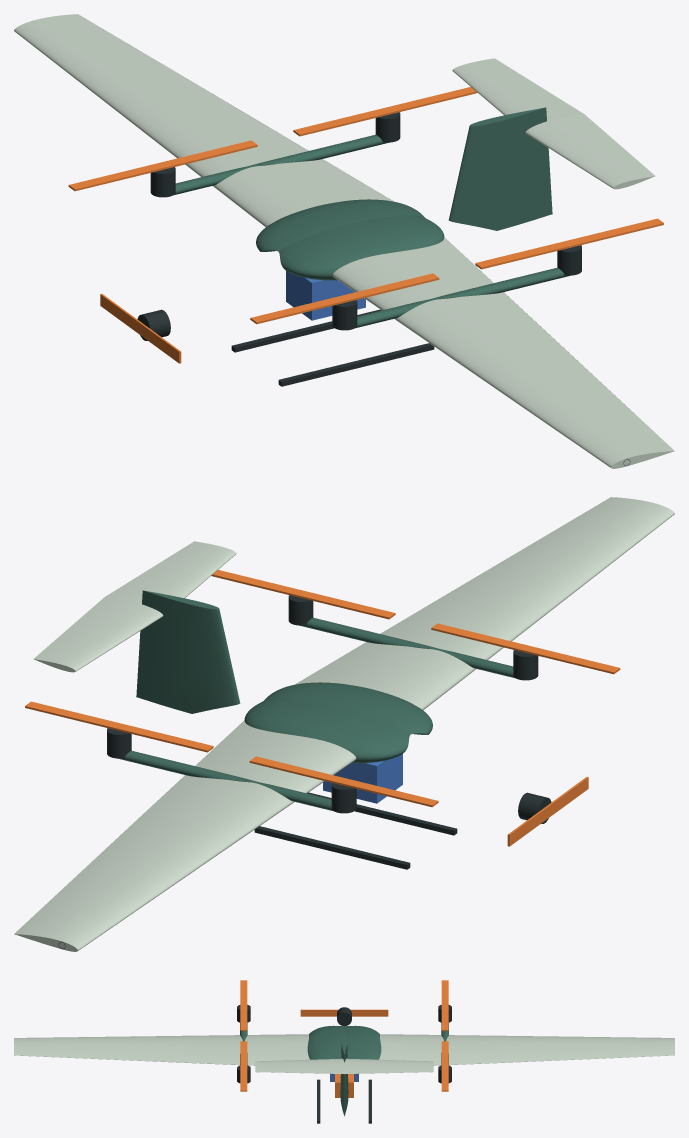
The model's file is control-04-internal.glb.
3 renders of one model, top to bottom at view 1: azimuth 30°, elevation 25°; view 2: azimuth 150°, elevation 25°; view 3: azimuth 270°, elevation 25°, orthographic. The views are drawn at different scales.
Visible parts, largest first — view 1: wing-1, wing1, fin, root_fairing-1, tail-1, root_fairing1, tail1, boom_fairing-1, boom_fairing1, payload, prop_-1_200.0, prop_1_200.0 (+8 smaller); view 2: wing1, wing-1, fin, root_fairing1, tail1, root_fairing-1, tail-1, boom_fairing1, boom_fairing-1, payload, prop_1_200.0, prop_-1_200.0 (+8 smaller); view 3: wing-1, wing1, tail-1, tail1, root_fairing-1, root_fairing1, cruise_prop, fin, prop_-1_200.0, prop_-1_700.0, prop_1_200.0, prop_1_700.0 (+2 smaller).
Boxes of the visible parts, x1=… form: wing-1: x1=332, y1=237, x2=674, y2=468; wing1: x1=14, y1=14, x2=393, y2=227; fin: x1=448, y1=107, x2=552, y2=230; root_fairing-1: x1=278, y1=215, x2=444, y2=280; tail-1: x1=525, y1=114, x2=655, y2=189; root_fairing1: x1=256, y1=199, x2=424, y2=251; tail1: x1=452, y1=58, x2=583, y2=121; boom_fairing-1: x1=355, y1=267, x2=569, y2=328; boom_fairing1: x1=174, y1=134, x2=388, y2=194; payload: x1=286, y1=271, x2=365, y2=320; prop_-1_200.0: x1=250, y1=273, x2=439, y2=324; prop_1_200.0: x1=68, y1=140, x2=257, y2=191; wing1: x1=14, y1=720, x2=356, y2=951; wing-1: x1=295, y1=497, x2=674, y2=710; fin: x1=136, y1=590, x2=240, y2=713; root_fairing1: x1=244, y1=698, x2=410, y2=763; tail1: x1=33, y1=597, x2=163, y2=672; root_fairing-1: x1=264, y1=682, x2=432, y2=734; tail-1: x1=105, y1=541, x2=236, y2=604; boom_fairing1: x1=119, y1=750, x2=333, y2=811; boom_fairing-1: x1=300, y1=617, x2=514, y2=677; payload: x1=323, y1=754, x2=402, y2=803; prop_1_200.0: x1=249, y1=756, x2=438, y2=807; prop_-1_200.0: x1=431, y1=623, x2=620, y2=674; wing-1: x1=14, y1=1034, x2=309, y2=1065; wing1: x1=379, y1=1034, x2=674, y2=1065; tail-1: x1=255, y1=1058, x2=344, y2=1074; tail1: x1=344, y1=1058, x2=433, y2=1073; root_fairing-1: x1=307, y1=1025, x2=344, y2=1059; root_fairing1: x1=344, y1=1025, x2=381, y2=1059; cruise_prop: x1=300, y1=1009, x2=388, y2=1016; fin: x1=340, y1=1034, x2=348, y2=1116; prop_-1_200.0: x1=240, y1=980, x2=247, y2=1030; prop_-1_700.0: x1=240, y1=1041, x2=247, y2=1091; prop_1_200.0: x1=441, y1=980, x2=448, y2=1030; prop_1_700.0: x1=441, y1=1041, x2=448, y2=1091.
Size of the model in its own units: 989 by 405 by 2300.
